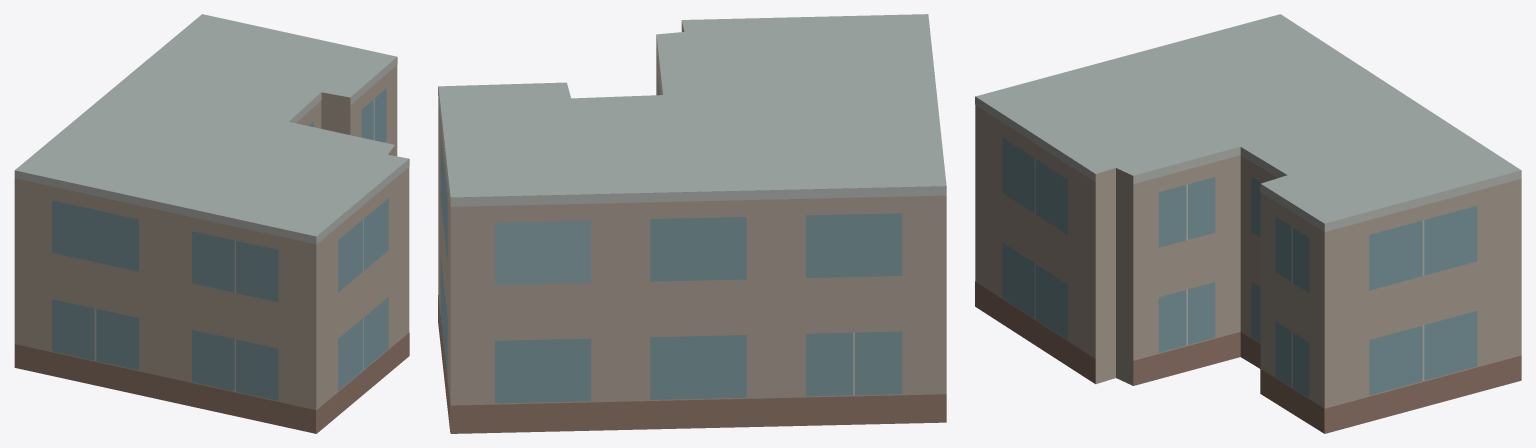
File: survey-upis-32755027.glb
The picture shows the model from 3 angles, left to right: view 1: azimuth 30°, elevation 25°; view 2: azimuth 150°, elevation 25°; view 3: azimuth 270°, elevation 25°; orthographic projection. The views are drawn at different scales.
Visible parts, largest first — view 1: survey-upis-32755027.tmp; view 2: survey-upis-32755027.tmp; view 3: survey-upis-32755027.tmp.
Boxes of the visible parts, <box> form: survey-upis-32755027.tmp: <box>14,14,409,433</box>; survey-upis-32755027.tmp: <box>438,14,946,433</box>; survey-upis-32755027.tmp: <box>975,14,1521,433</box>.
Bounding box in the file's own units: 13.06 × 6.1 × 14.38.
